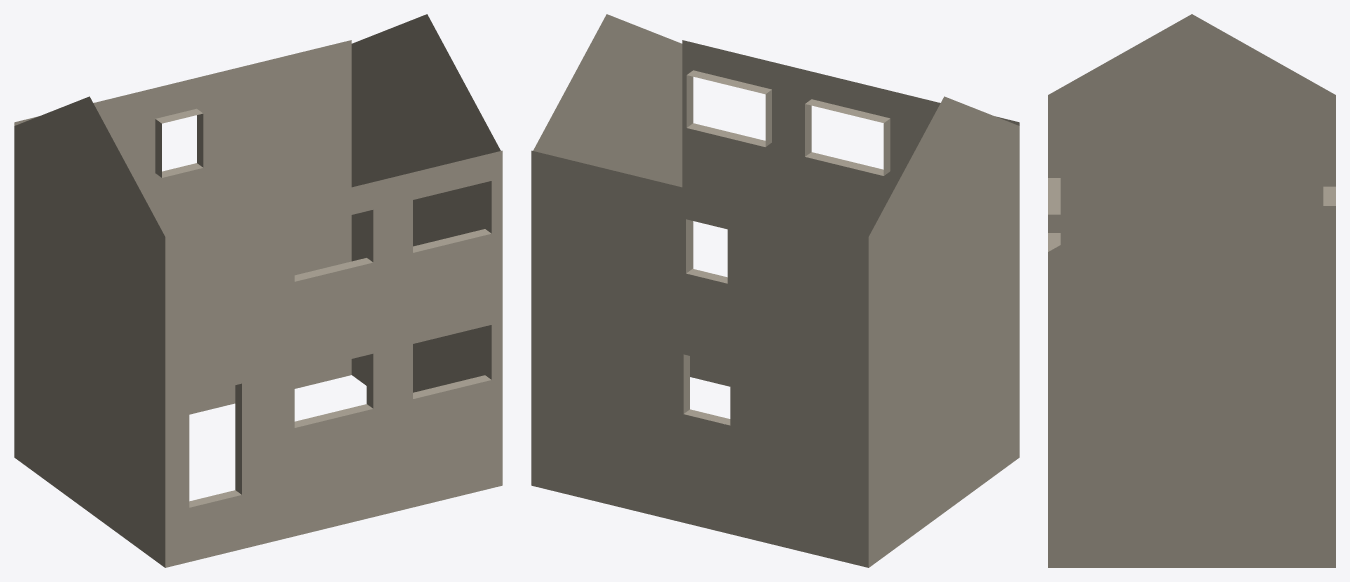
File: SM_Bld_018_Render.glb
3 views of the same model, side by side, from view 1: azimuth 30°, elevation 25°; view 2: azimuth 150°, elevation 25°; view 3: azimuth 270°, elevation 25° (orthographic). The views are drawn at different scales.
Parts seen in each view (by area): view 1: SM_Bld_018_Render; view 2: SM_Bld_018_Render; view 3: SM_Bld_018_Render.
Boxes of the visible parts, bbox=[...] form: SM_Bld_018_Render: bbox=[14, 14, 502, 567]; SM_Bld_018_Render: bbox=[531, 14, 1019, 567]; SM_Bld_018_Render: bbox=[1048, 14, 1335, 567].
Bounding box in the file's own units: 6.5 × 7.67 × 5.04.
